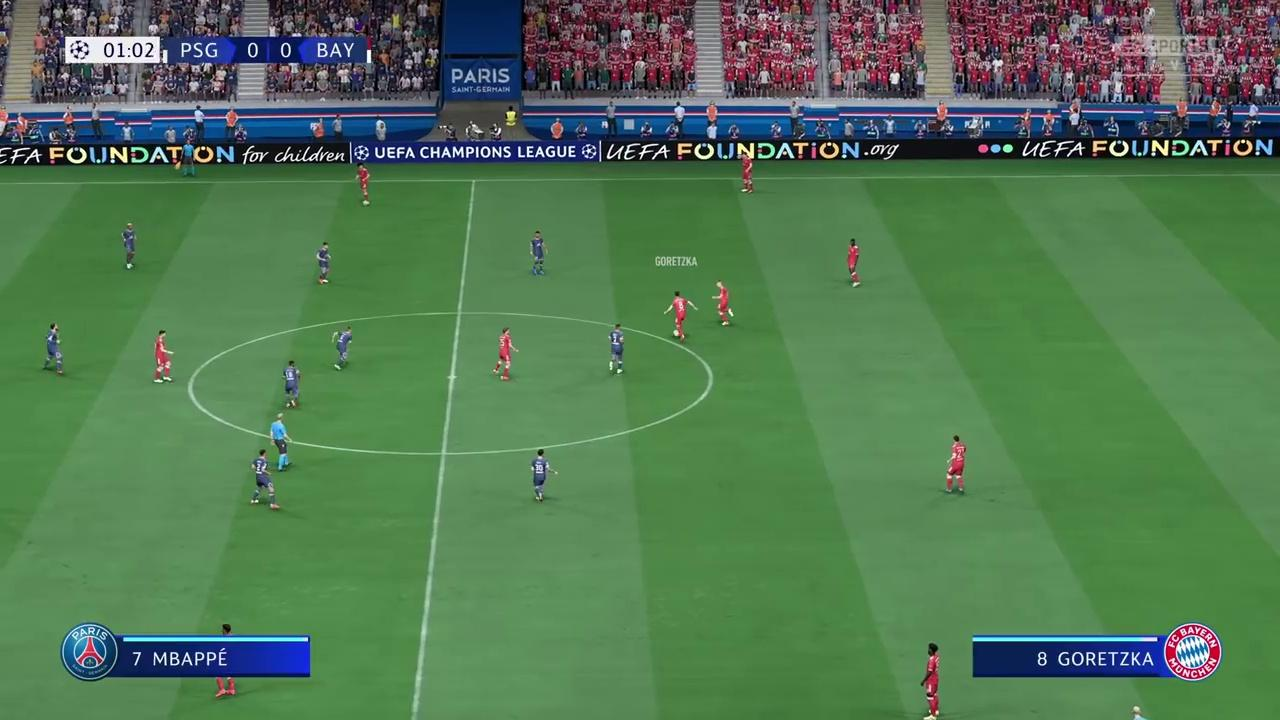scoreboard: (168, 36, 368, 63)
timestamp: (63, 35, 160, 65)
